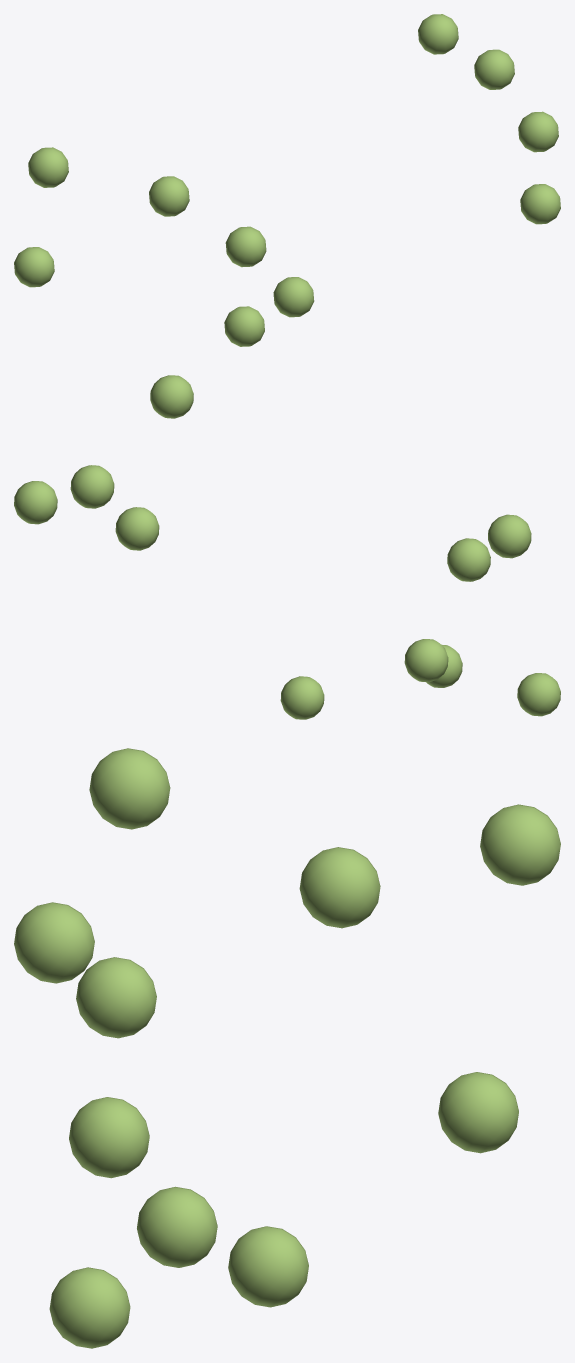
File: inferior-tracheobronchial-nodes.glb
3 views of the same model, one above another, from view 1: azimuth 30°, elevation 25°; view 2: azimuth 150°, elevation 25°; view 3: azimuth 270°, elevation 25° (orthographic). The views are drawn at different scales.
Parts seen in each view (by area): view 1: Inferior tracheobronchial nodes; view 2: Inferior tracheobronchial nodes; view 3: Inferior tracheobronchial nodes.
Part boxes in pixels (bbox=[...]): Inferior tracheobronchial nodes: bbox=[14, 14, 560, 346]; Inferior tracheobronchial nodes: bbox=[14, 375, 560, 719]; Inferior tracheobronchial nodes: bbox=[14, 748, 560, 1348].
Size of the model in its own units: 0.0358 by 0.0174 by 0.0173.
